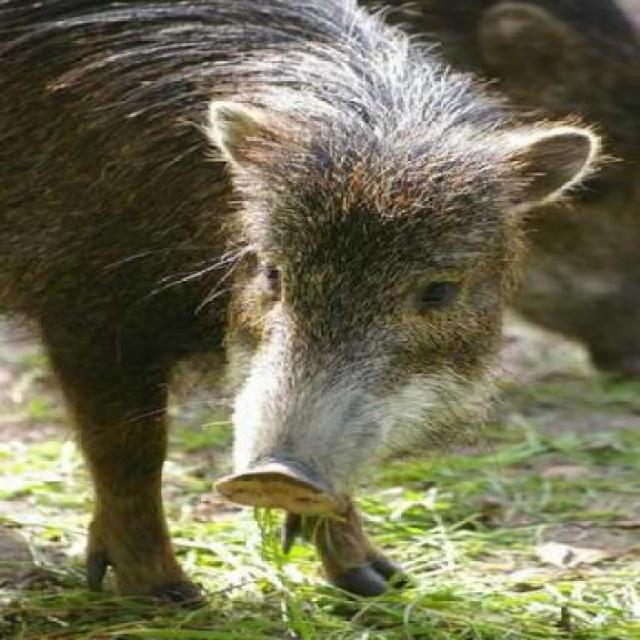pig: (40, 0, 624, 568)
